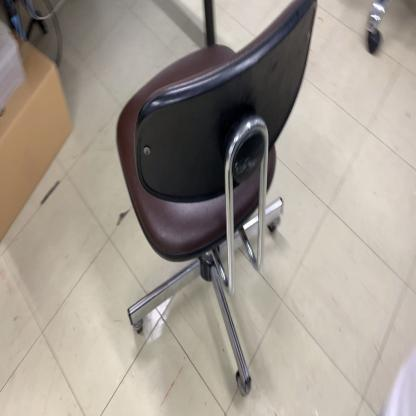chair: (115, 0, 320, 399)
